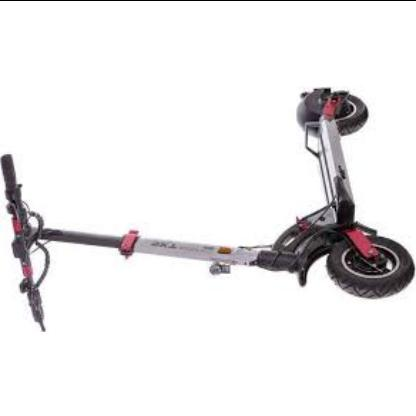bike: (5, 87, 416, 301), (254, 88, 415, 300)
